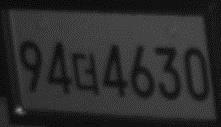0: (182, 47, 210, 101)
3: (154, 46, 182, 101)
4: (101, 42, 129, 99), (44, 41, 73, 95)
6: (128, 43, 156, 99)
9: (17, 38, 43, 93)
더: (70, 51, 102, 97)
